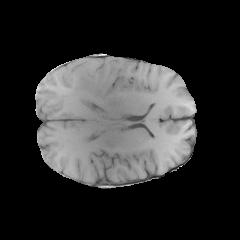glioma: (60, 62, 111, 101)
